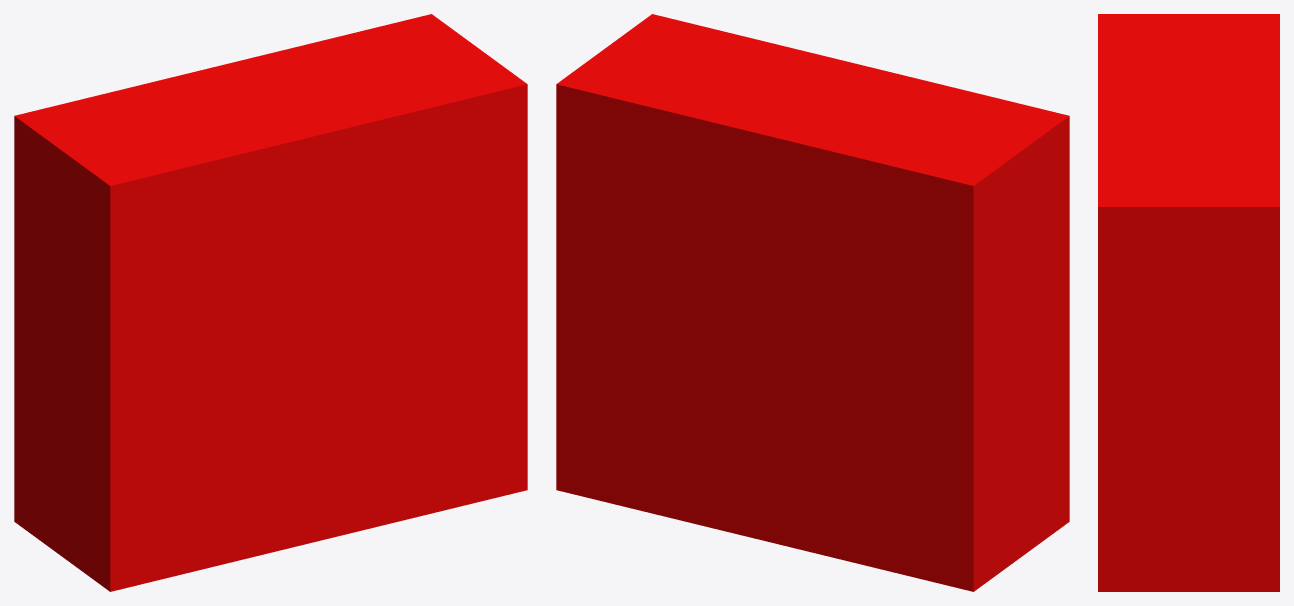
File: cerv4sm_col.dae
The picture shows the model from 3 angles, left to right: view 1: azimuth 30°, elevation 25°; view 2: azimuth 150°, elevation 25°; view 3: azimuth 270°, elevation 25°; orthographic projection. The views are drawn at different scales.
Parts seen in each view (by area): view 1: node0; view 2: node0; view 3: node0.
Part boxes in pixels (left/top/right/bottom): node0: left=14, top=14, right=527, bottom=591; node0: left=556, top=14, right=1069, bottom=591; node0: left=1098, top=14, right=1279, bottom=591.
Size of the model in its own units: 0.0604 by 0.0562 by 0.0241.
